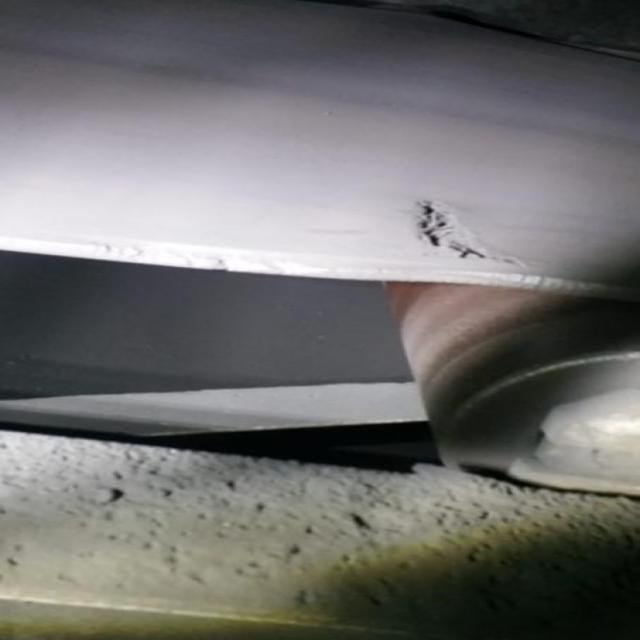Tear: (416, 196, 526, 272)
